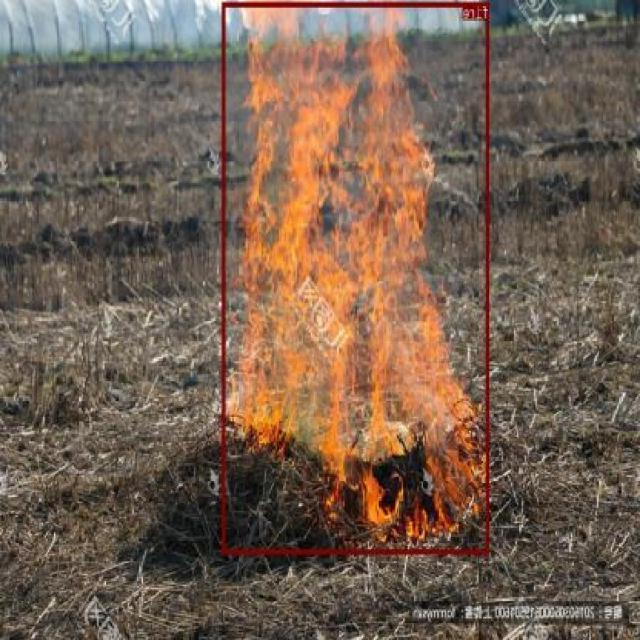Fire: (222, 1, 490, 554)
